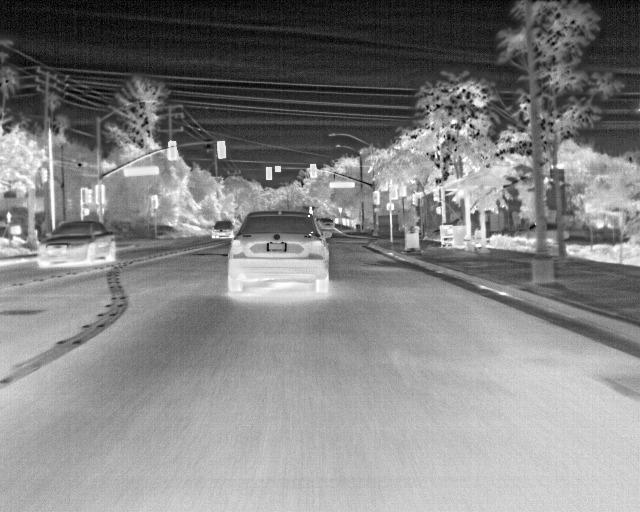car: (227, 210, 332, 292), (38, 221, 115, 267), (212, 221, 234, 238), (321, 219, 333, 229)
light: (217, 141, 226, 159), (168, 141, 176, 160), (96, 185, 104, 204), (86, 190, 92, 204), (310, 164, 316, 177), (266, 167, 272, 180), (373, 191, 379, 204), (432, 189, 438, 201), (43, 169, 48, 182), (412, 194, 417, 205), (387, 203, 394, 210), (97, 208, 103, 215), (435, 207, 440, 214), (84, 209, 89, 215)
sign: (124, 166, 159, 175), (330, 182, 355, 188), (204, 139, 214, 152), (390, 185, 397, 199), (152, 195, 158, 208), (399, 187, 405, 196), (275, 166, 281, 172)
